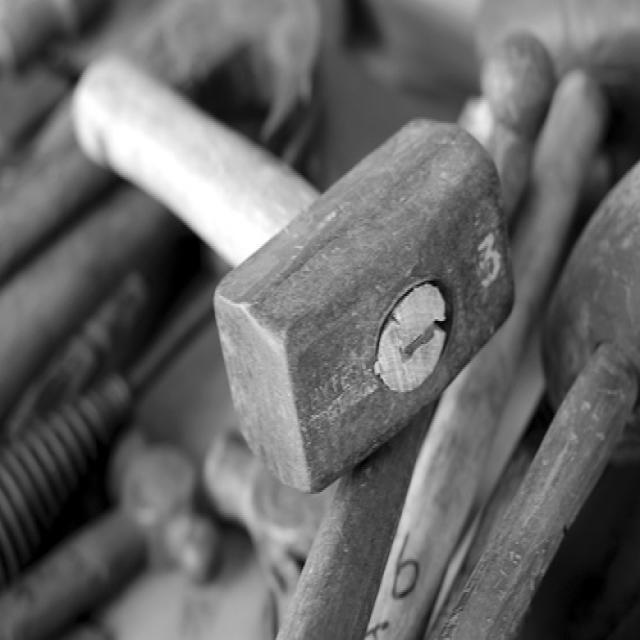hammer: (66, 37, 526, 519)
